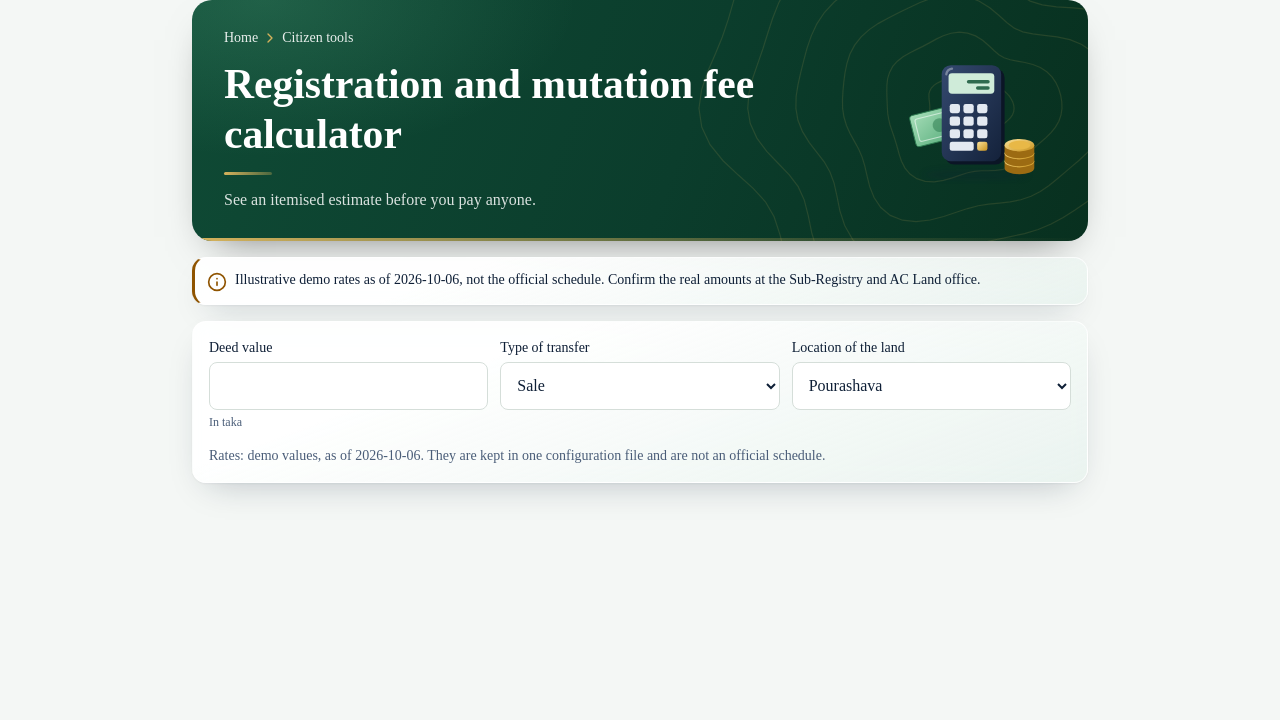
Test case: empty input › fee calculator: untouched empty is fine, emptied again shows the error
This screenshot has width=1280, height=720.
Expected: the text "Enter a number, for example 2500000" is not shown
Step 1. Type "5" into the field labelled "Deed value" → x=349, y=386, box [209,362,488,410]
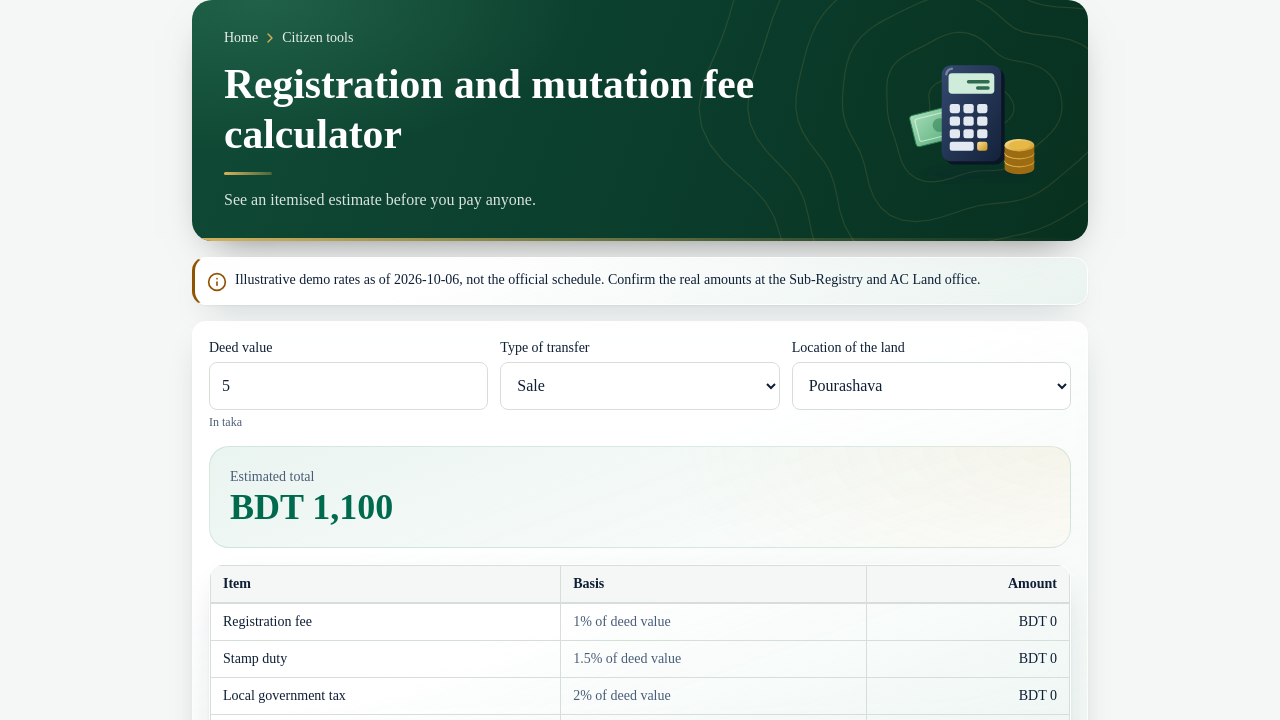
Step 2. Clear the field labelled "Deed value" → x=349, y=386, box [209,362,488,410]
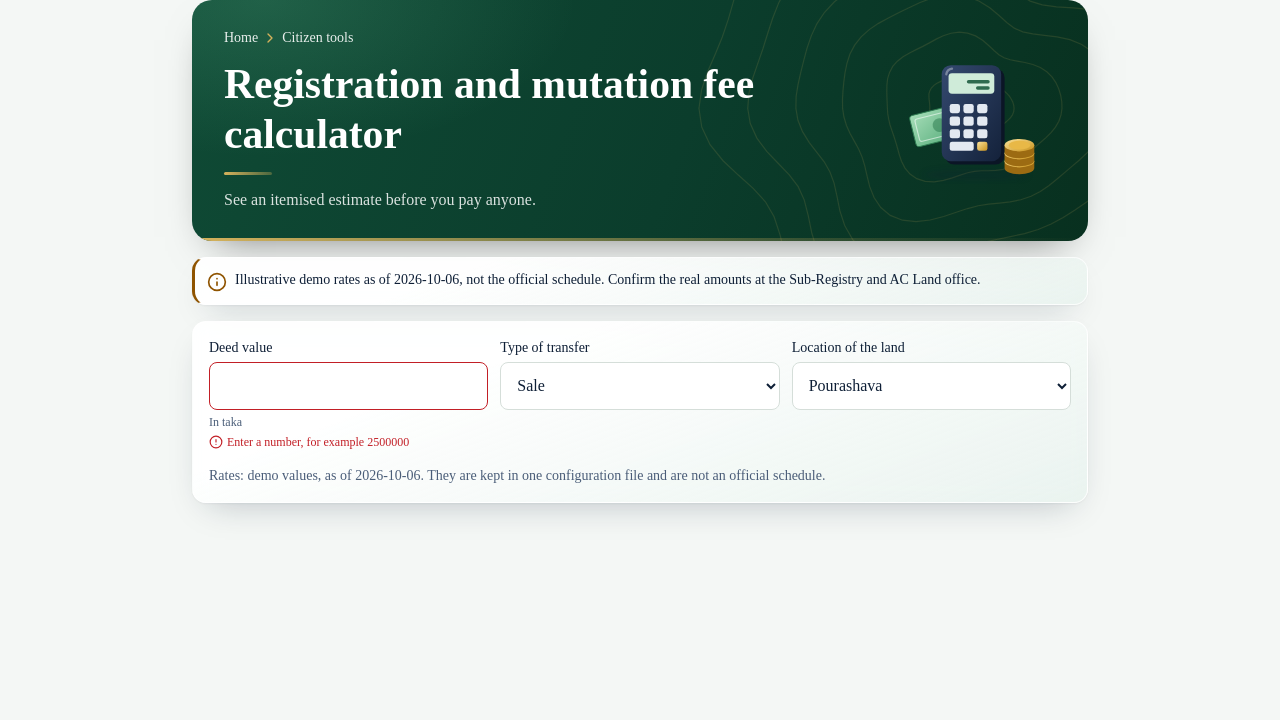
Now the text "Enter a number, for example 2500000" is shown, box [227,434,409,450]
